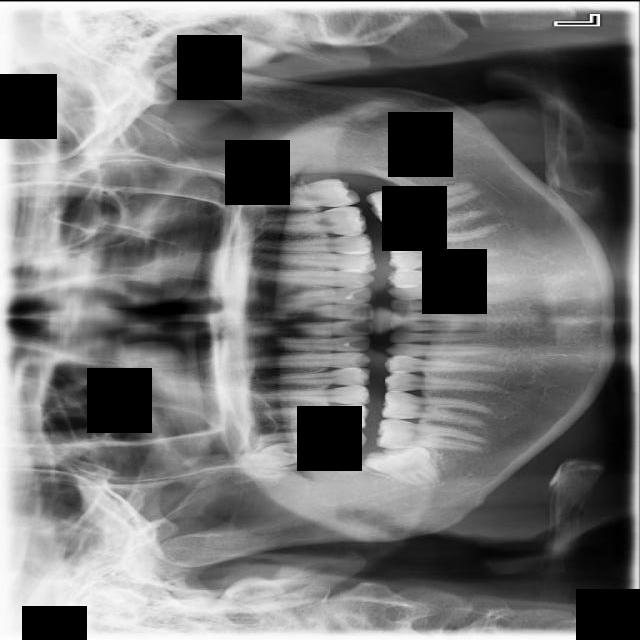3M ESPE Implant: (225, 438, 305, 478)
52: (327, 284, 373, 305), (326, 334, 368, 352)
73: (576, 30, 596, 42)
BioHorizons Implant: (223, 177, 359, 208)
Blue Sky Bio Implant: (367, 181, 484, 224)
Caries: (254, 429, 367, 453)
Implant: (376, 417, 489, 451)
Keystone Dental Implant: (361, 434, 447, 490)
